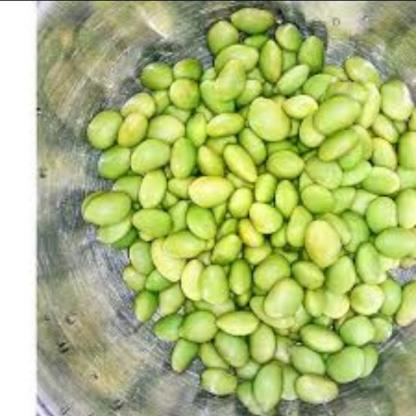beans: (72, 7, 415, 416)
